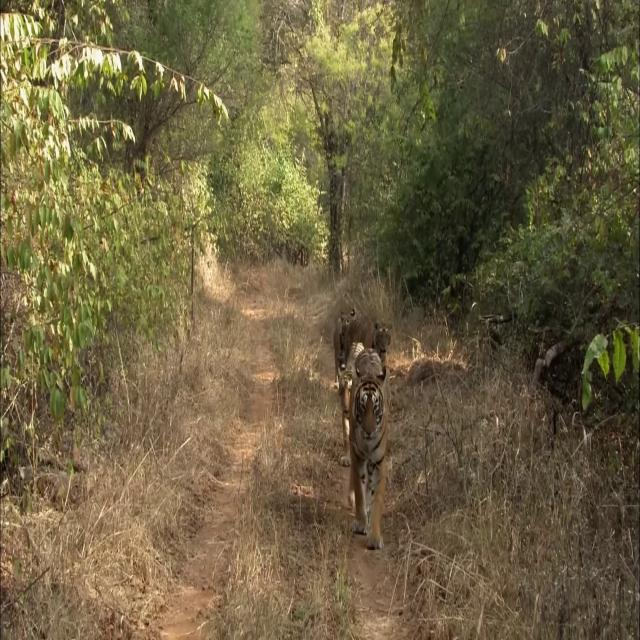tiger: (349, 346, 388, 550)
